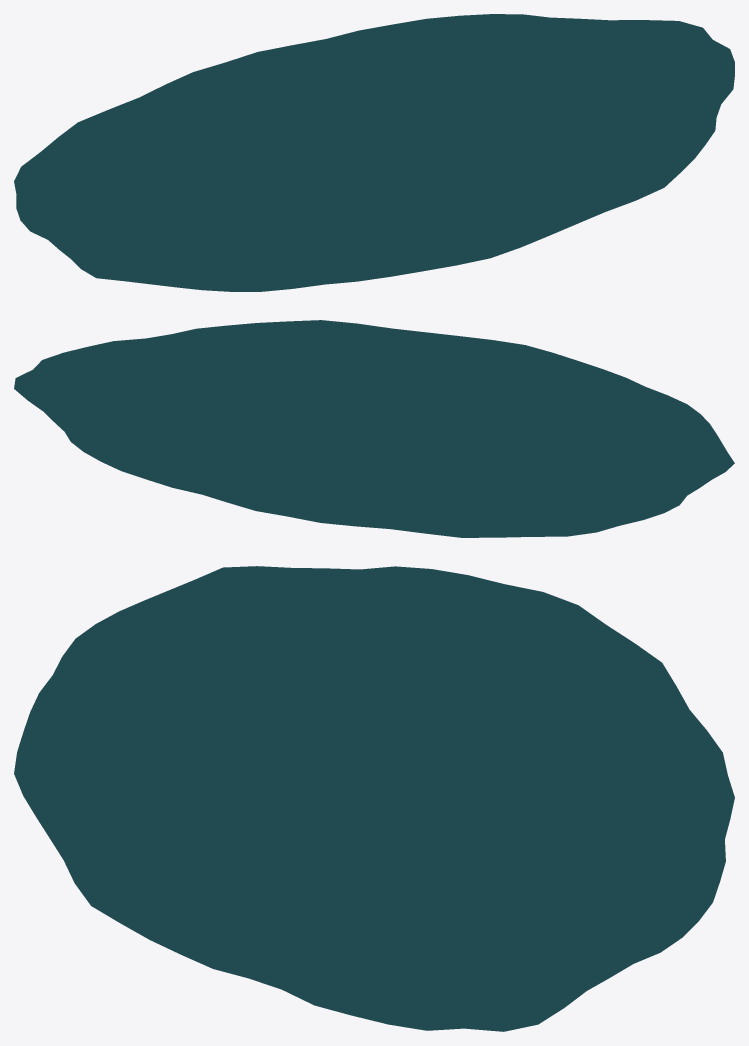
Rendered from SM_Water_MirrorLake.fbx.
The picture shows the model from 3 angles, top to bottom: view 1: azimuth 30°, elevation 25°; view 2: azimuth 150°, elevation 25°; view 3: azimuth 270°, elevation 25°; orthographic projection. The views are drawn at different scales.
Visible parts, largest first — view 1: SM_Water_MirrorLake; view 2: SM_Water_MirrorLake; view 3: SM_Water_MirrorLake.
Part boxes in pixels (x1,y1,x2,y2): SM_Water_MirrorLake: [14, 14, 734, 291]; SM_Water_MirrorLake: [14, 320, 734, 537]; SM_Water_MirrorLake: [14, 566, 734, 1031].
Bounding box in the file's own units: 502 × 5.35e-05 × 328.
